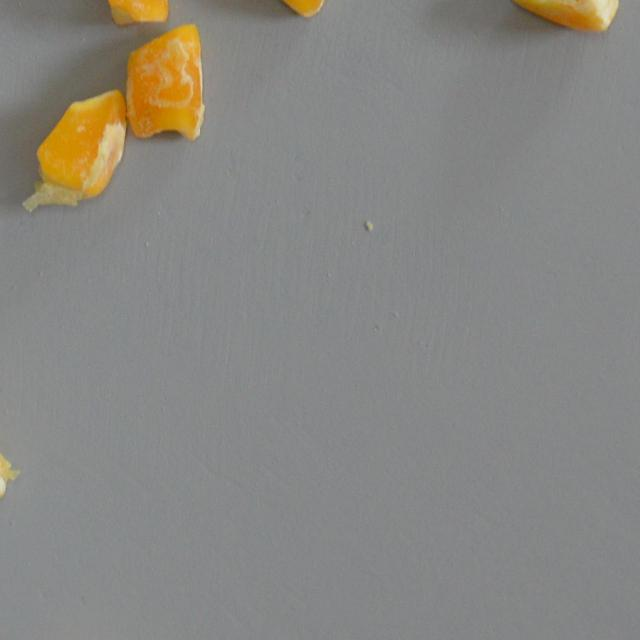dañado: (16, 80, 127, 216), (122, 18, 207, 148), (506, 0, 622, 36), (0, 421, 28, 528), (100, 0, 173, 28), (255, 0, 338, 24)
